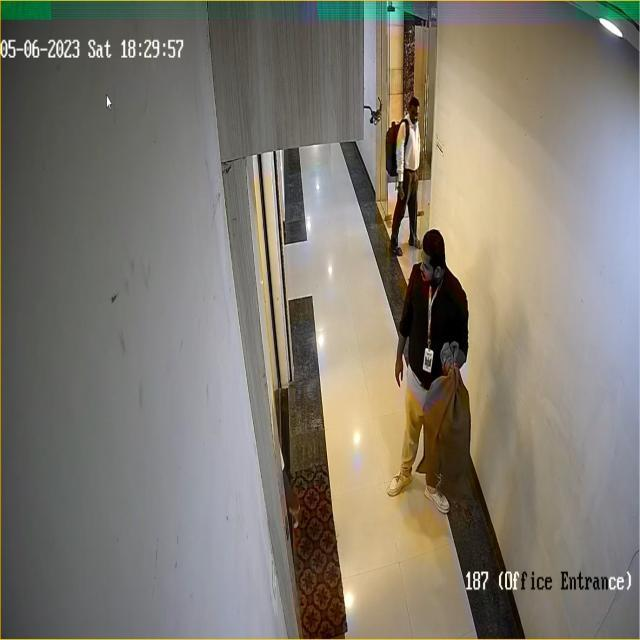gunny_bag: (420, 350, 472, 508)
